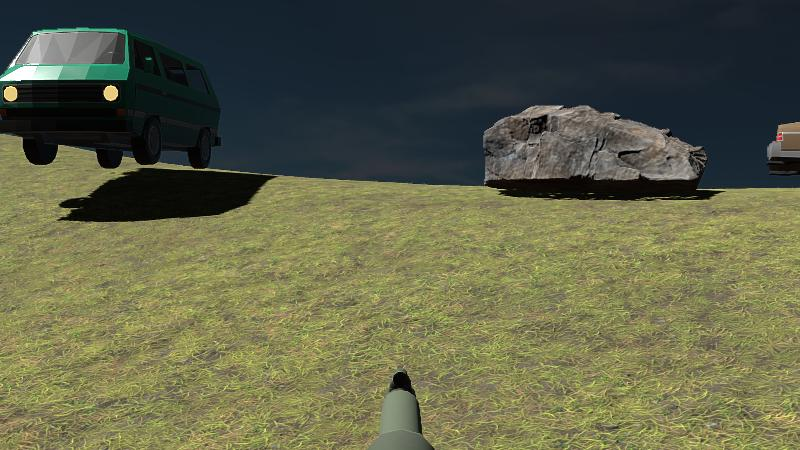car: (0, 27, 223, 169), (767, 97, 800, 186)
